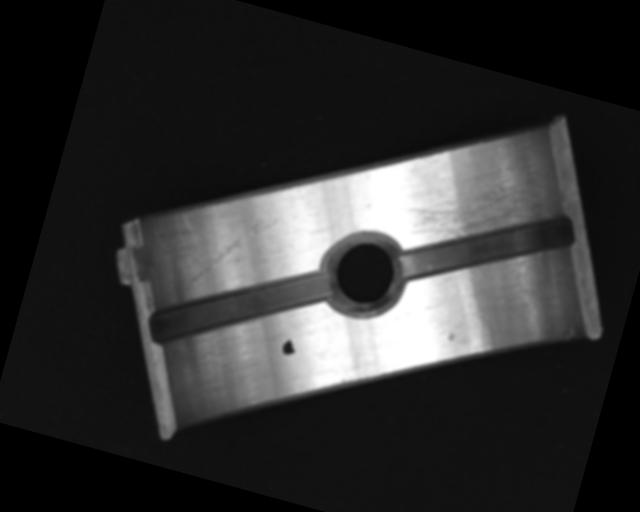blot: (280, 337, 299, 358)
bruise: (447, 331, 456, 342)
gap: (143, 231, 333, 384), (396, 178, 578, 318)
hole: (316, 223, 411, 323)
nick: (186, 200, 279, 303)
scratch: (386, 130, 564, 271)
